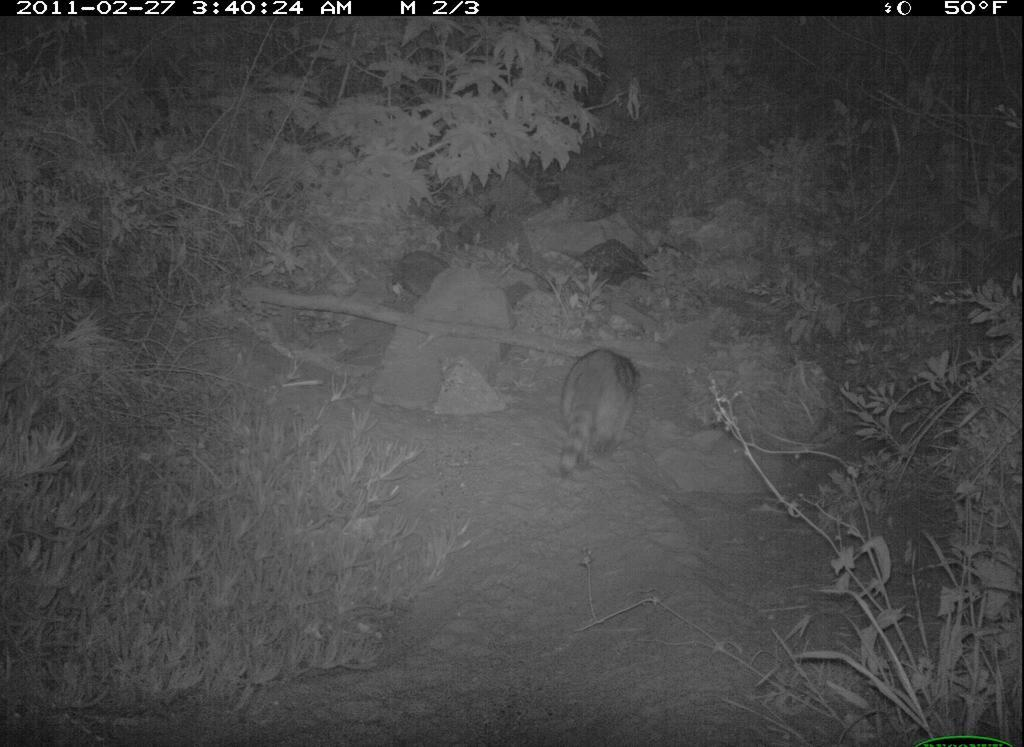raccoon: (550, 340, 642, 489)
